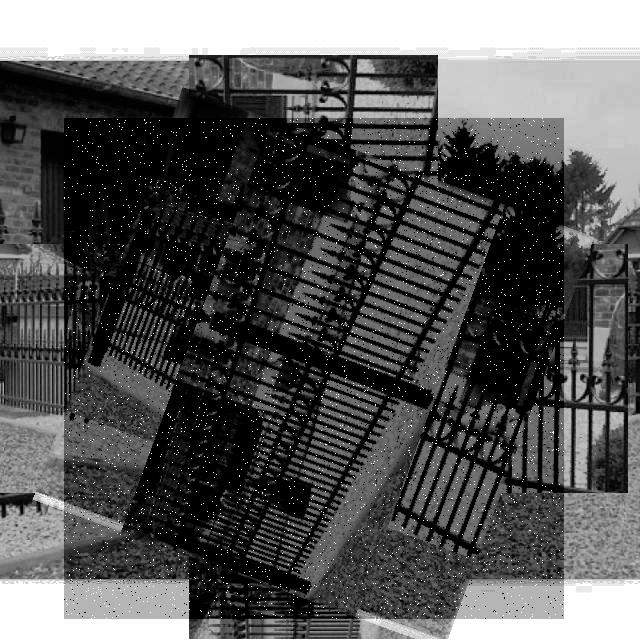fences: (64, 118, 564, 619)
